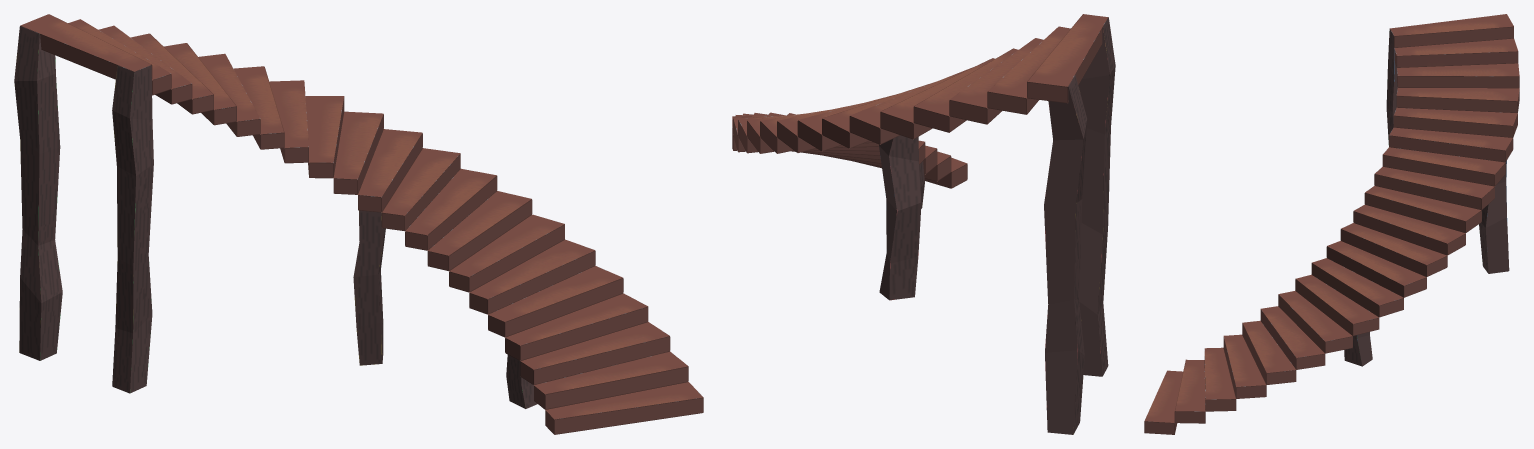
File: STAIRS.fbx
3 renders of one model, left to right at view 1: azimuth 30°, elevation 25°; view 2: azimuth 150°, elevation 25°; view 3: azimuth 270°, elevation 25°, orthographic. The views are drawn at different scales.
Visible parts, largest first — view 1: polySurface152; view 2: polySurface152; view 3: polySurface152.
Part boxes in pixels (x1,y1,x2,y2): polySurface152: (14,14,703,434); polySurface152: (732,14,1115,434); polySurface152: (1144,14,1519,434).
Size of the model in its own units: 855 by 574 by 775.
Materials: 1 (1 with a texture image).
